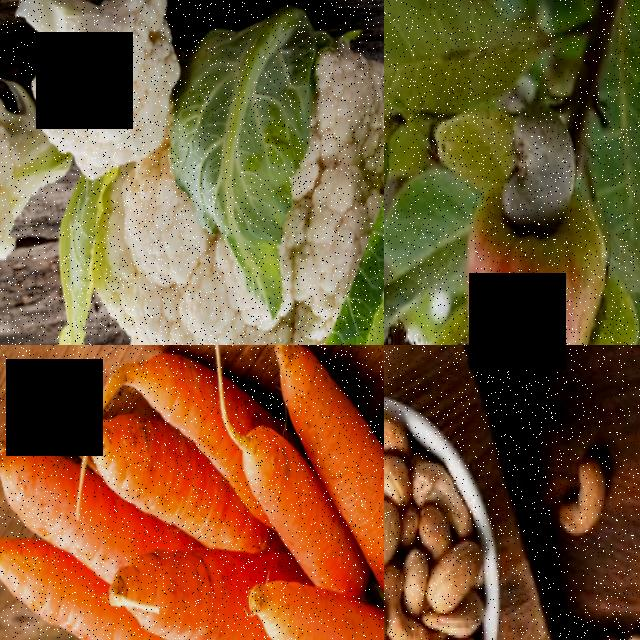carrot: (0, 416, 95, 564), (134, 345, 244, 468), (99, 407, 196, 543), (241, 429, 322, 579), (325, 345, 384, 543), (133, 552, 254, 640), (0, 578, 94, 640)
cashew: (488, 95, 593, 239), (558, 427, 612, 573), (422, 544, 478, 611), (384, 458, 412, 510), (384, 404, 414, 448), (567, 619, 613, 640)
cauliflower: (161, 37, 384, 345), (25, 0, 165, 153), (0, 92, 58, 271)
